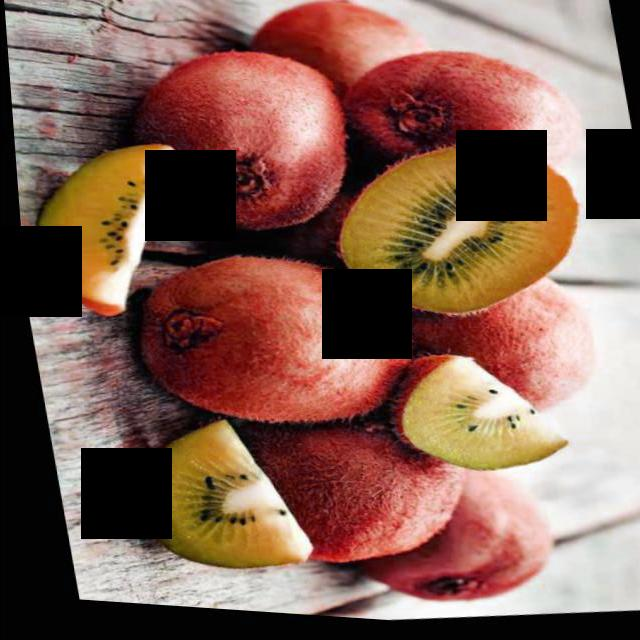kiwi: (120, 242, 422, 450), (126, 39, 368, 253), (223, 415, 472, 583), (349, 36, 591, 204), (318, 456, 557, 624), (398, 266, 608, 436)
